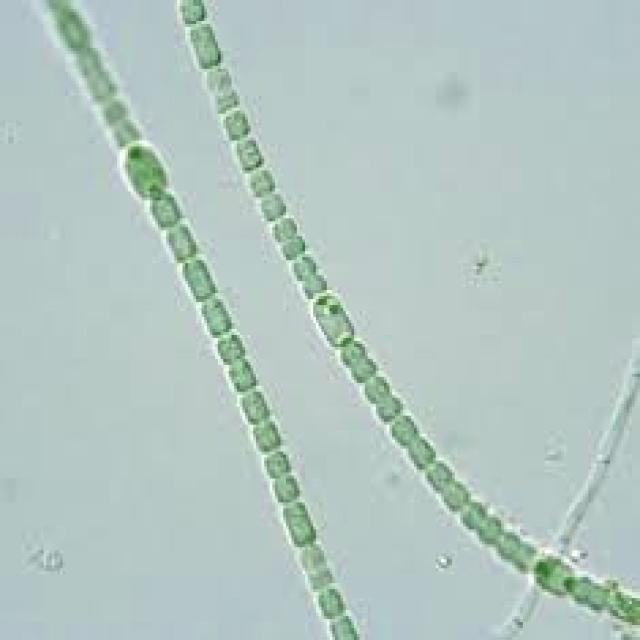Blue Green Algae: (174, 254, 215, 302), (564, 565, 604, 610), (280, 500, 316, 548), (199, 293, 234, 341), (186, 18, 223, 60), (147, 188, 185, 228), (204, 62, 237, 108), (163, 221, 199, 260), (218, 104, 253, 138), (313, 583, 343, 622), (229, 134, 261, 170), (408, 433, 436, 472), (253, 186, 289, 216), (270, 470, 300, 506), (213, 329, 245, 362), (226, 353, 253, 392), (259, 446, 294, 476), (240, 388, 270, 422), (250, 418, 280, 452), (297, 269, 327, 299), (373, 394, 403, 424), (95, 99, 134, 122), (425, 461, 452, 494), (264, 216, 300, 240), (327, 613, 359, 640), (245, 164, 275, 192), (289, 251, 316, 281), (389, 412, 416, 442), (109, 120, 142, 144), (458, 499, 484, 526), (479, 514, 504, 542), (362, 371, 387, 398), (444, 482, 466, 512), (338, 338, 362, 365), (275, 233, 300, 257), (351, 359, 376, 380)
